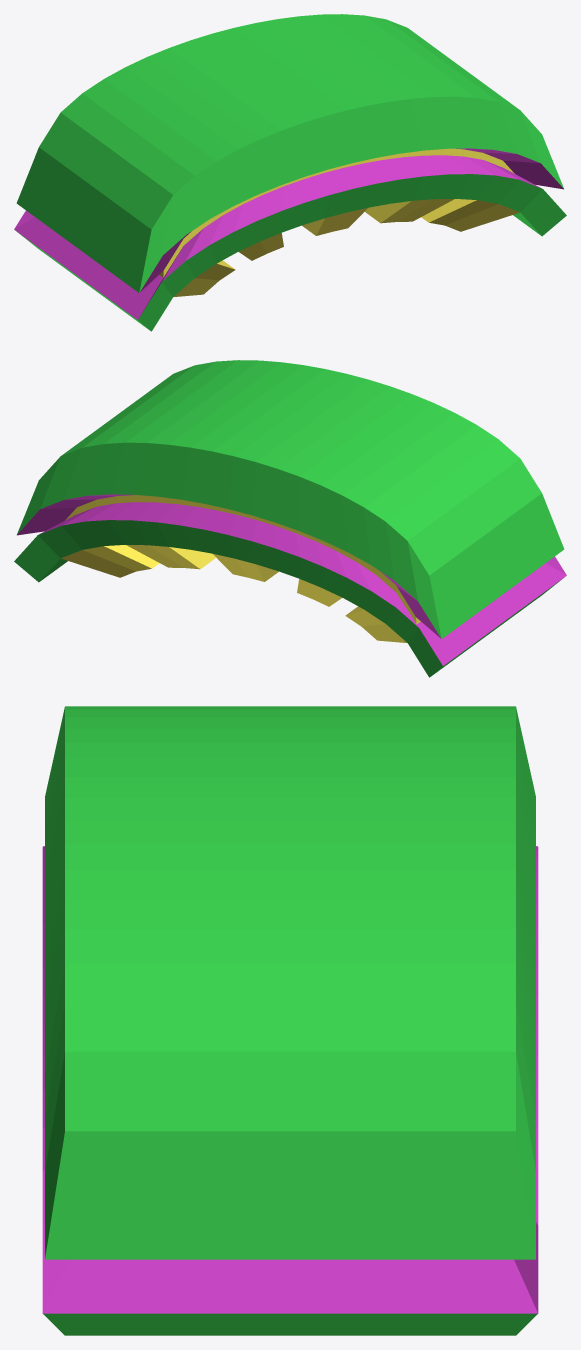
The picture shows the model from 3 angles, top to bottom: view 1: azimuth 30°, elevation 25°; view 2: azimuth 150°, elevation 25°; view 3: azimuth 270°, elevation 25°; orthographic projection. The views are drawn at different scales.
Parts seen in each view (by area): view 1: Paddle; view 2: Paddle; view 3: Paddle.
Part boxes in pixels (<box>): Paddle: <box>14,14,566,331</box>; Paddle: <box>14,360,566,677</box>; Paddle: <box>42,706,538,1335</box>.
Size of the model in its own units: 4.4 by 1.7 by 2.2.
